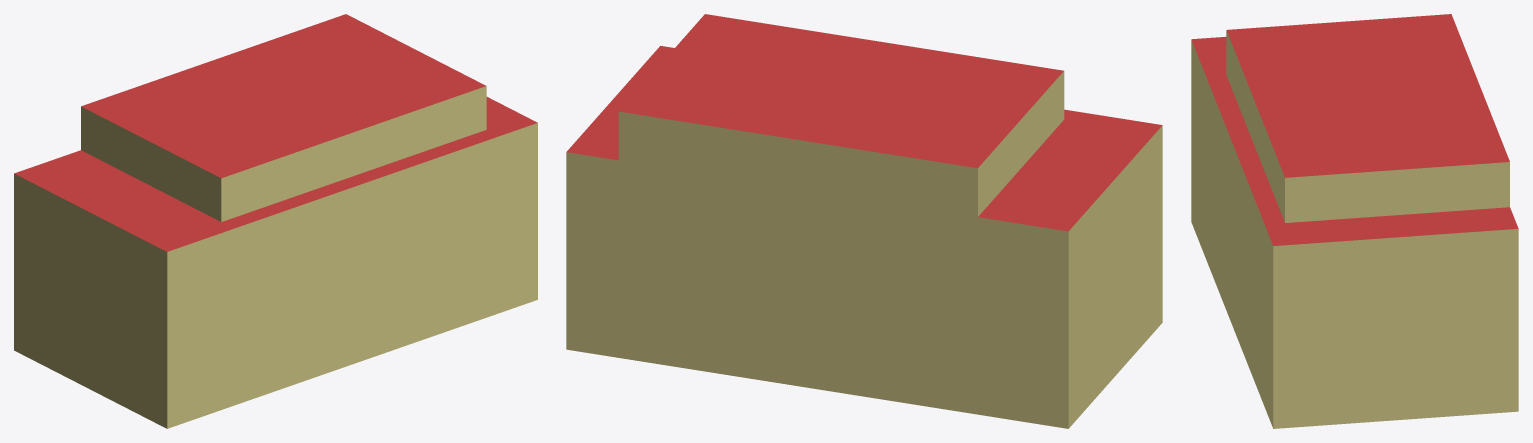
3 renders of one model, left to right at view 1: azimuth 30°, elevation 25°; view 2: azimuth 150°, elevation 25°; view 3: azimuth 270°, elevation 25°, orthographic. The views are drawn at different scales.
Bounding box in the file's own units: 30.14 × 18.59 × 14.29.
